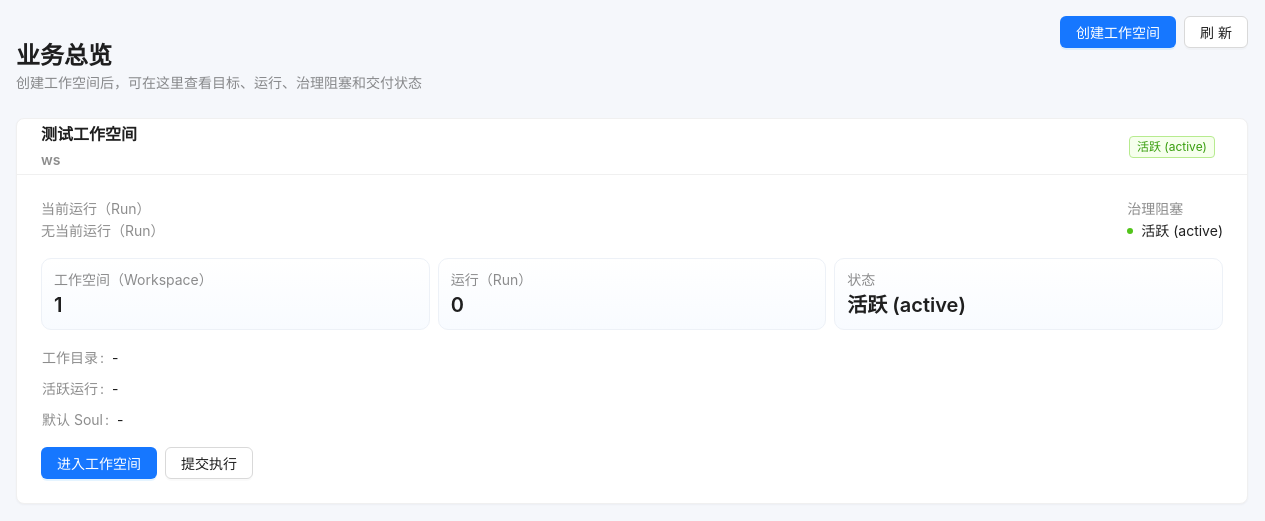
Scenario: 未决执行不是接受或拒绝 › Board 显示原身份，不宣称没有转发，不自动重试
The width and height of the screenshot is (1265, 521).
Click the button "提交执行" at (209, 463), box [165,447,253,479]
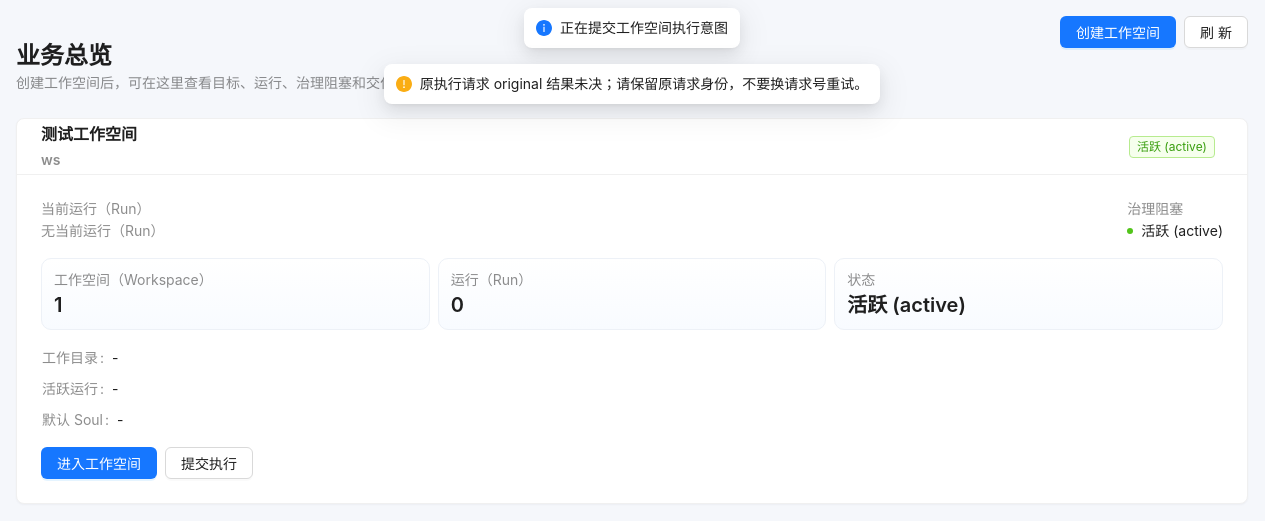
Expected: the text "原执行请求 original 结果未决；请保留原请求身份，不要换请求号重试。" is shown, [420,73,868,95]
